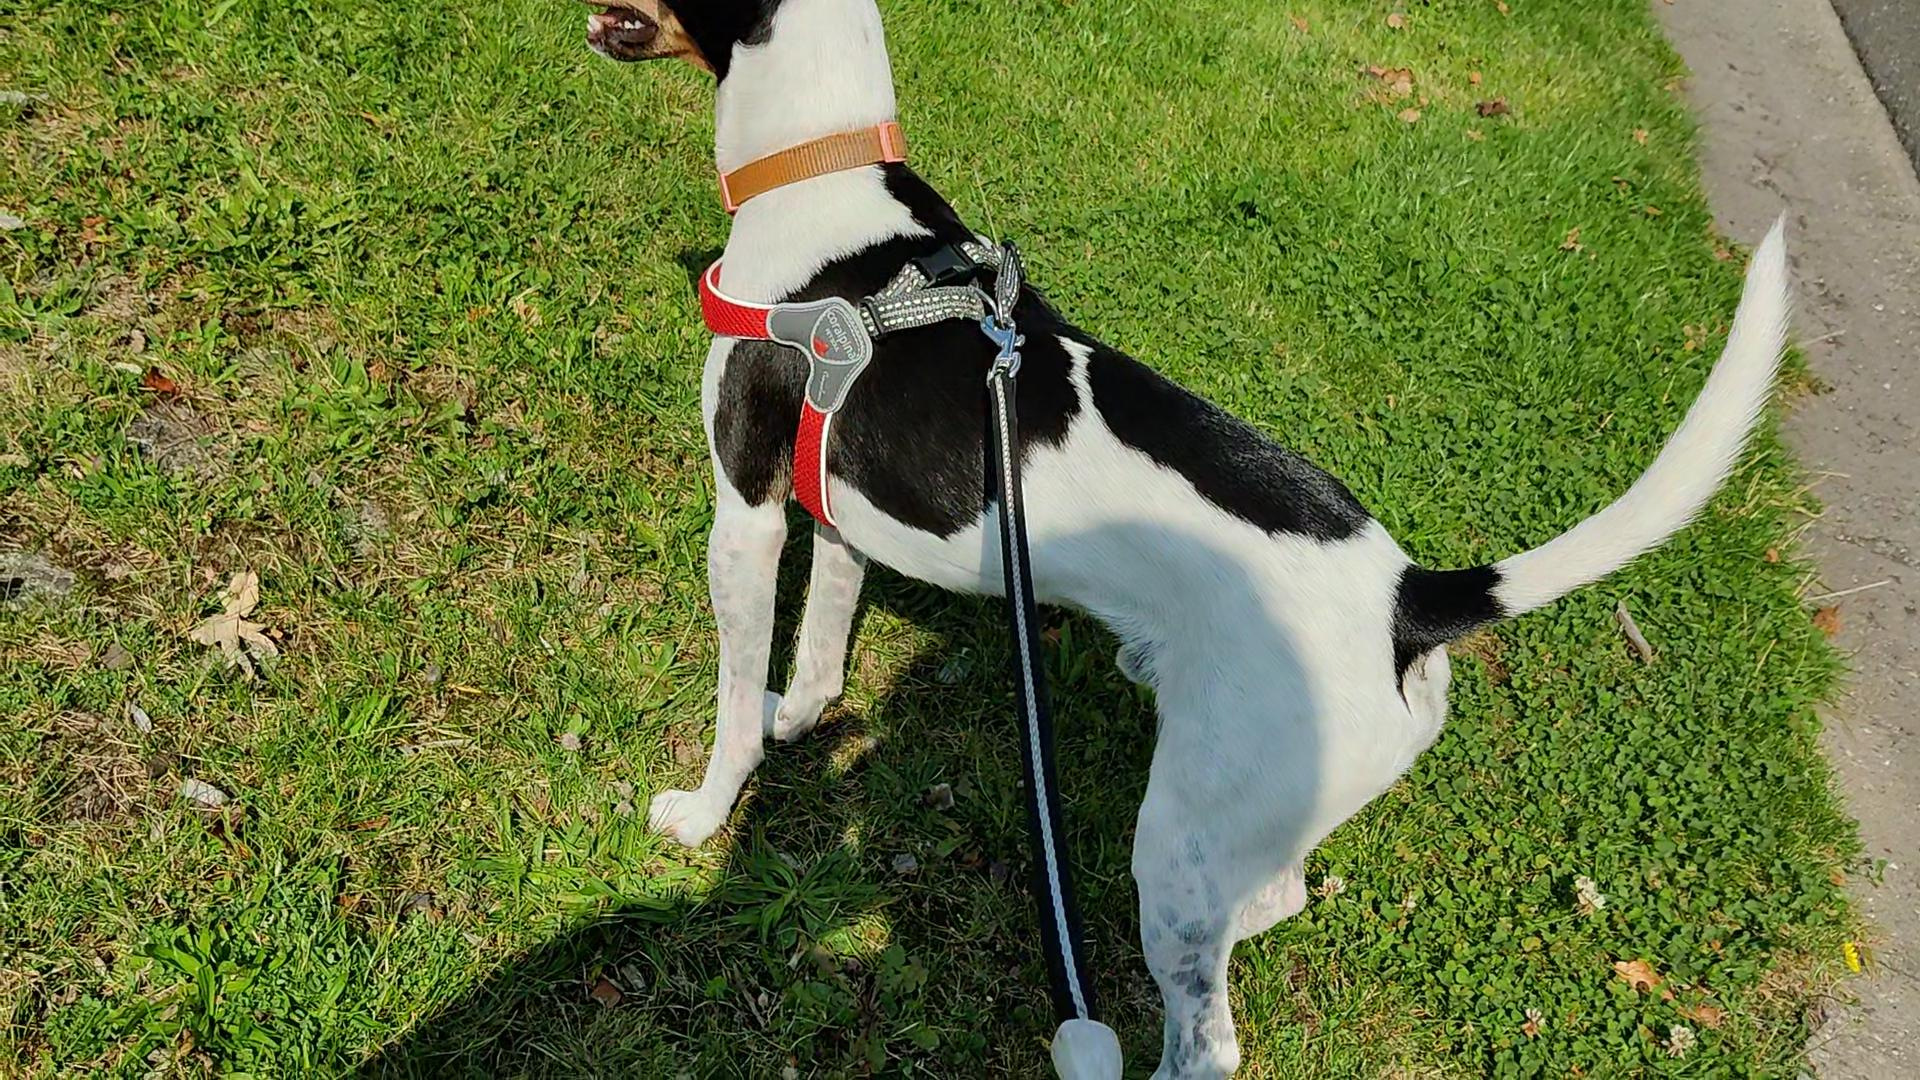Dog: (578, 0, 1793, 1079)
